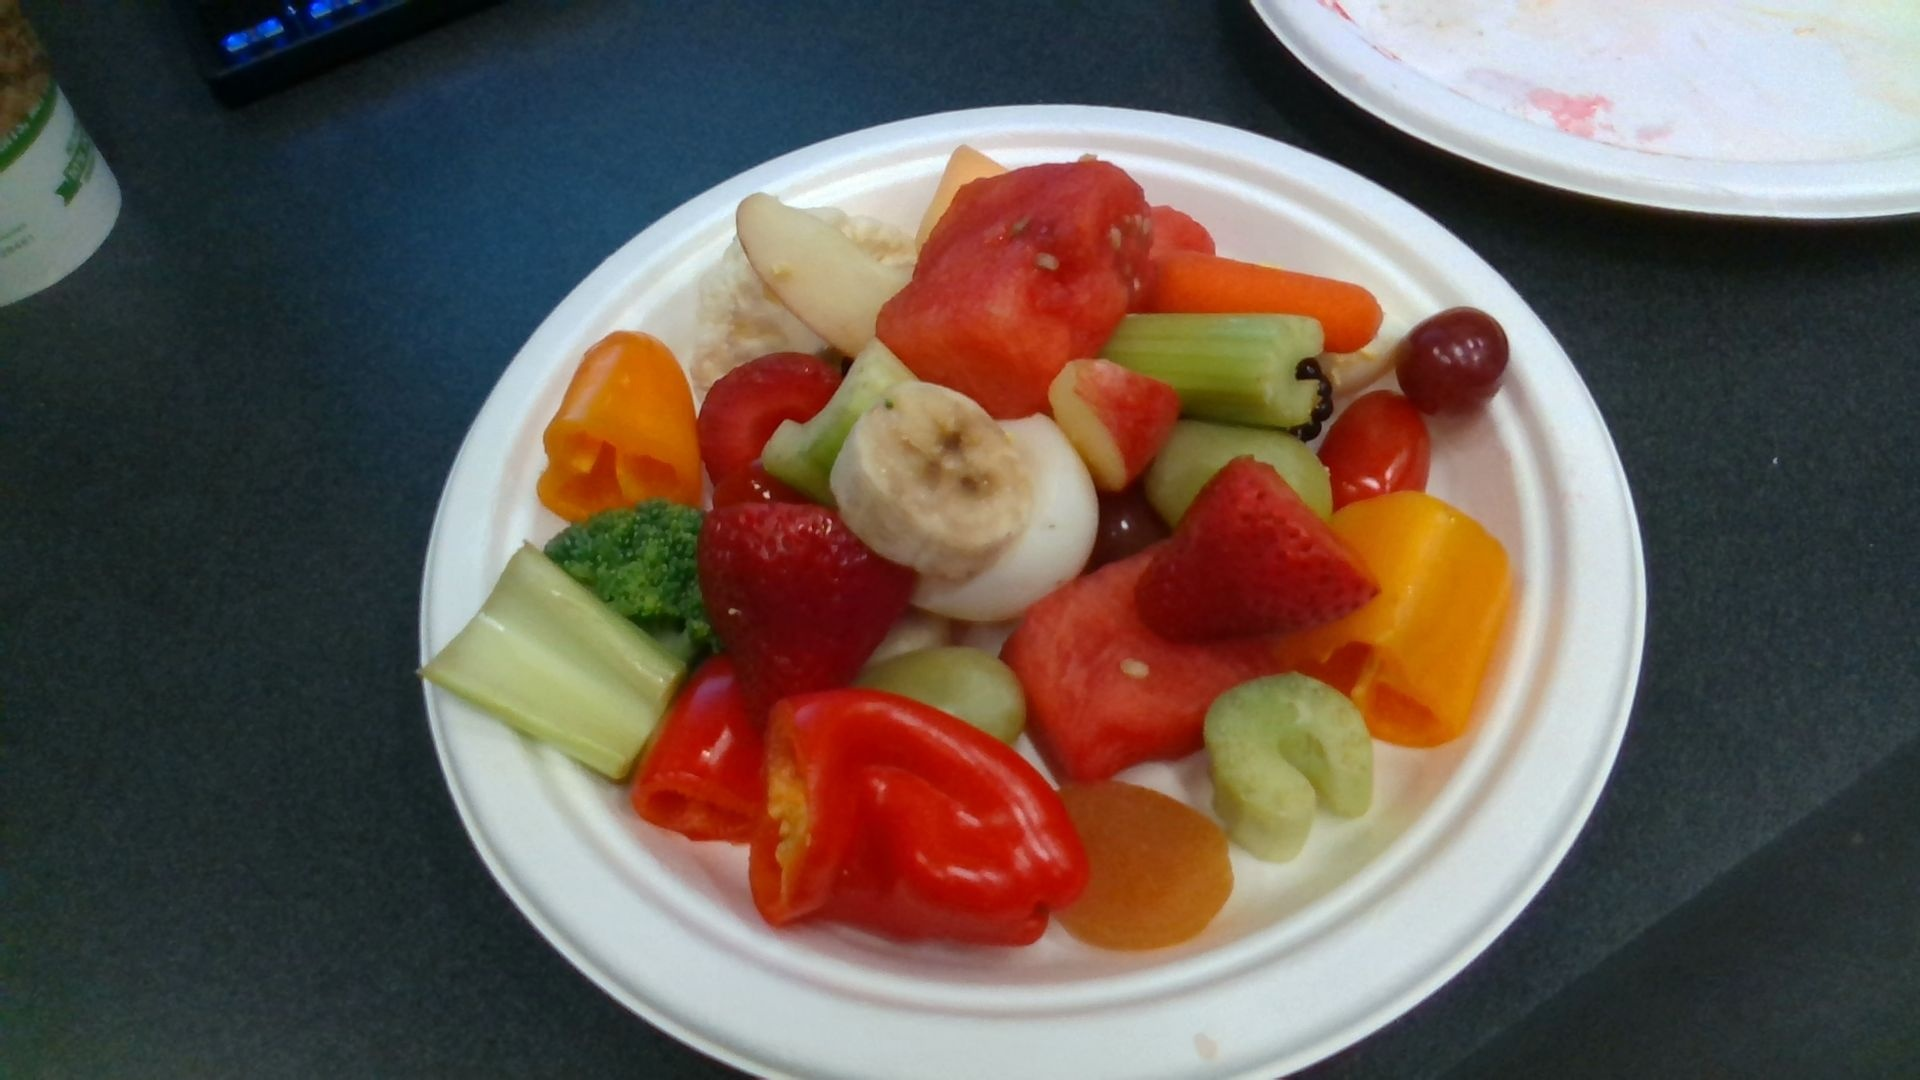apple: (737, 190, 914, 356), (1047, 360, 1178, 487)
apricot: (1044, 781, 1232, 951)
banana: (829, 382, 1034, 580)
bell_pepper: (752, 690, 1089, 951), (1284, 493, 1516, 748), (539, 336, 700, 520), (640, 661, 767, 840)
broccoli: (545, 502, 717, 663)
carrot: (1149, 253, 1379, 351)
celery: (417, 546, 680, 778), (1205, 675, 1370, 860), (1104, 316, 1324, 425)
cherry_tomato: (1319, 396, 1429, 510)
grape_green: (862, 650, 1027, 740)
grape_purple: (1400, 310, 1505, 413)
melon: (877, 161, 1153, 419), (1000, 541, 1259, 775)
strawberry: (704, 501, 909, 727), (1139, 460, 1379, 644), (698, 355, 837, 498)
